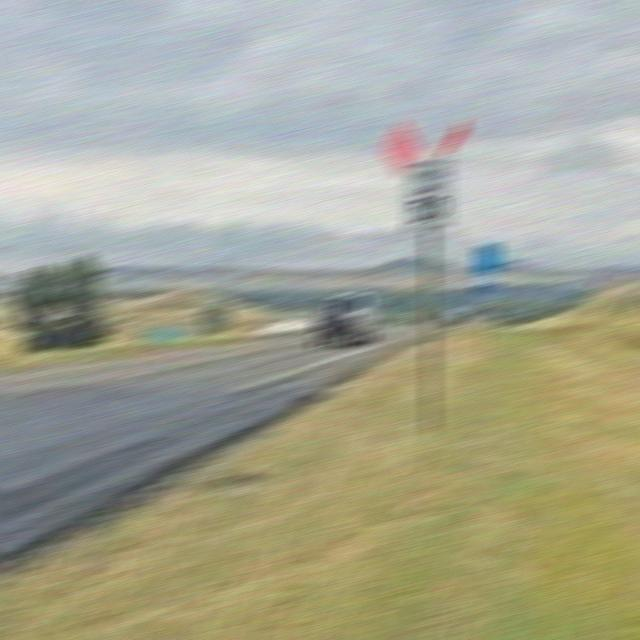speedLimit50: (398, 161, 455, 232)
